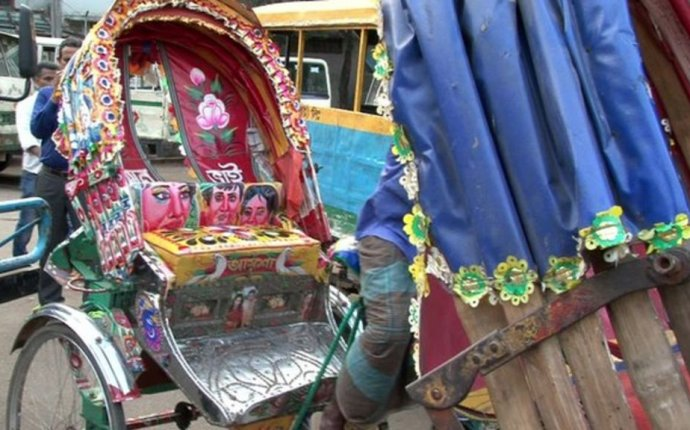Rickshaw: (41, 7, 360, 424), (387, 6, 686, 426)
